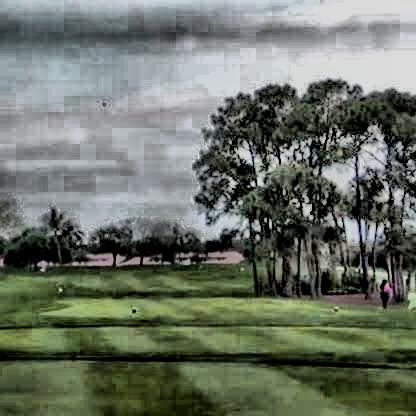golfball: (99, 98, 103, 105)
